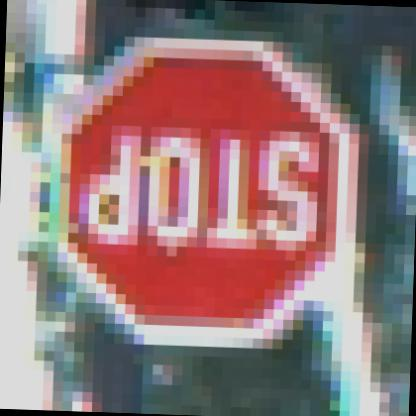stop: (27, 49, 378, 344)
